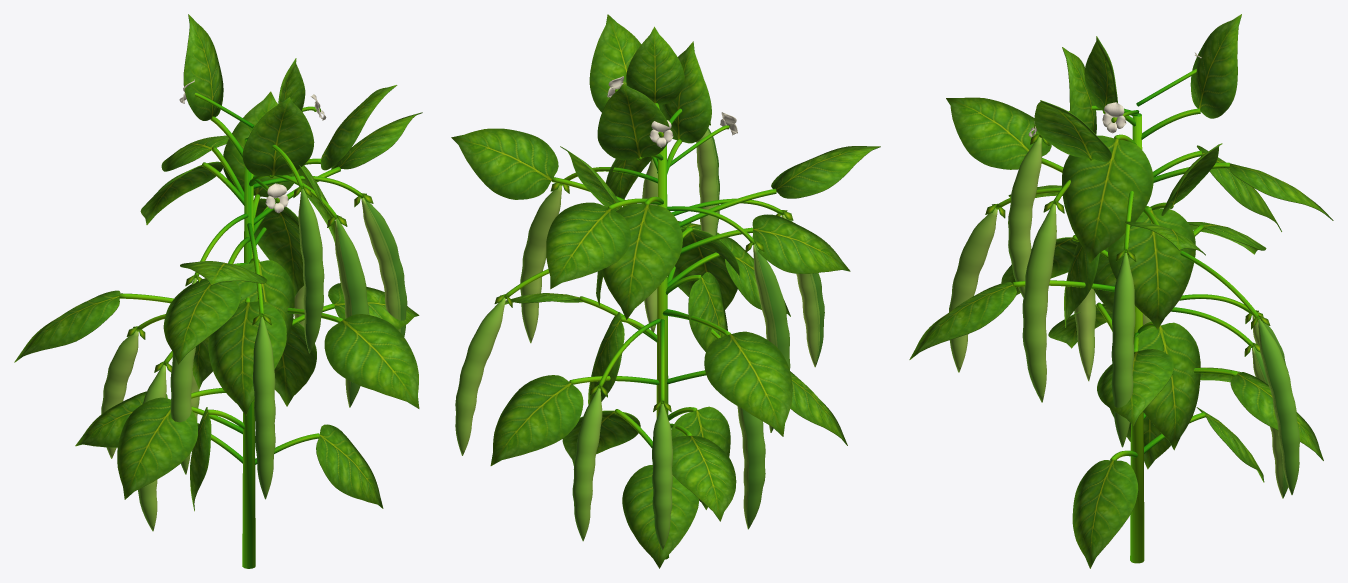
Rendered from NP_GreenBean_Ready.fbx.
3 renders of one model, left to right at view 1: azimuth 30°, elevation 25°; view 2: azimuth 150°, elevation 25°; view 3: azimuth 270°, elevation 25°, orthographic. The views are drawn at different scales.
Visible parts, largest first — view 1: NP_GreenBean_Ready; view 2: NP_GreenBean_Ready; view 3: NP_GreenBean_Ready.
Boxes of the visible parts, x1,y1,x2,y2 form: NP_GreenBean_Ready: [14, 14, 422, 568]; NP_GreenBean_Ready: [451, 14, 880, 568]; NP_GreenBean_Ready: [909, 14, 1333, 568].
Size of the model in its own units: 87.57 by 116 by 82.73.
